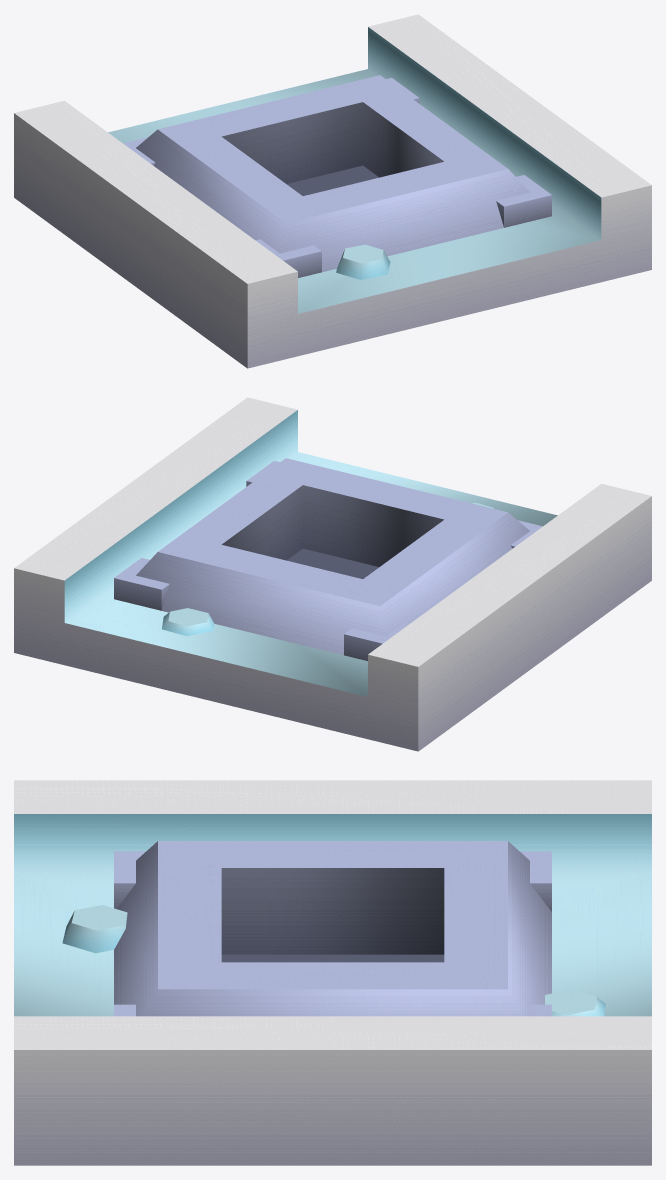
File: snow-tile-spawn.glb
3 renders of one model, top to bottom at view 1: azimuth 30°, elevation 25°; view 2: azimuth 150°, elevation 25°; view 3: azimuth 270°, elevation 25°, orthographic. The views are drawn at different scales.
Visible parts, largest first — view 1: snow-tile-spawn; view 2: snow-tile-spawn; view 3: snow-tile-spawn.
Boxes of the visible parts, x1=… form: snow-tile-spawn: x1=14, y1=14, x2=651, y2=368; snow-tile-spawn: x1=14, y1=397, x2=651, y2=751; snow-tile-spawn: x1=14, y1=780, x2=651, y2=1165.
Size of the model in its own units: 1 by 0.2 by 1.
1 material, 1 textured.
